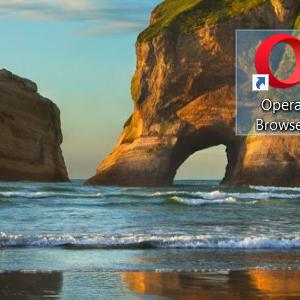opera: (252, 34, 300, 92)
